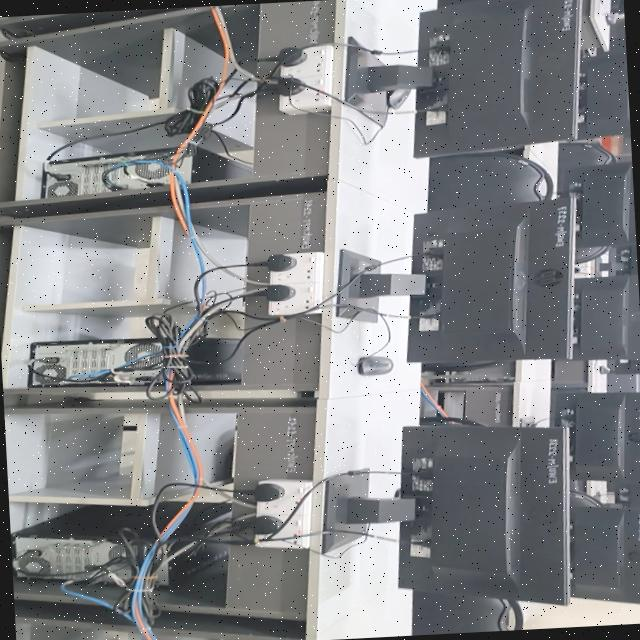Chair: (429, 151, 553, 211), (412, 591, 523, 636), (559, 141, 616, 185), (576, 245, 610, 264)
Cpu: (29, 340, 165, 385), (43, 155, 169, 197), (13, 535, 125, 580), (176, 155, 192, 175)
Monitor: (400, 425, 569, 604), (408, 198, 574, 366), (415, 0, 581, 157), (553, 389, 640, 482), (571, 503, 640, 603), (572, 273, 640, 360), (577, 45, 631, 138), (577, 161, 636, 246), (615, 483, 640, 507), (608, 359, 640, 374)
Mouse: (358, 355, 394, 375), (388, 88, 412, 109), (597, 365, 611, 373)
